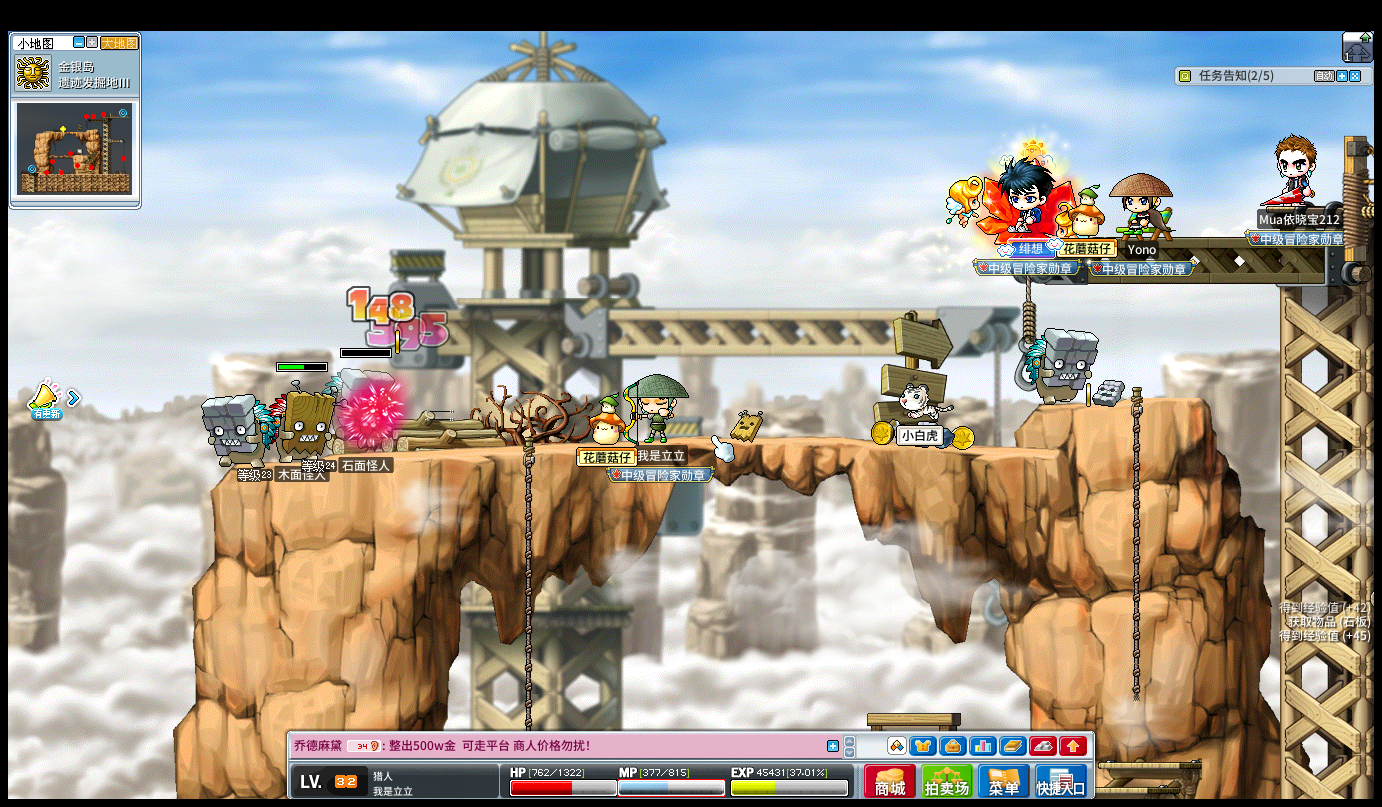floor: (219, 432, 1119, 457), (1036, 392, 1205, 408), (1044, 395, 1203, 412)
monster: (1023, 327, 1099, 407), (202, 394, 273, 469), (270, 385, 341, 458), (329, 367, 397, 434)
rope: (1128, 384, 1143, 704), (1128, 479, 1142, 706), (522, 432, 534, 669), (1128, 594, 1141, 703)
